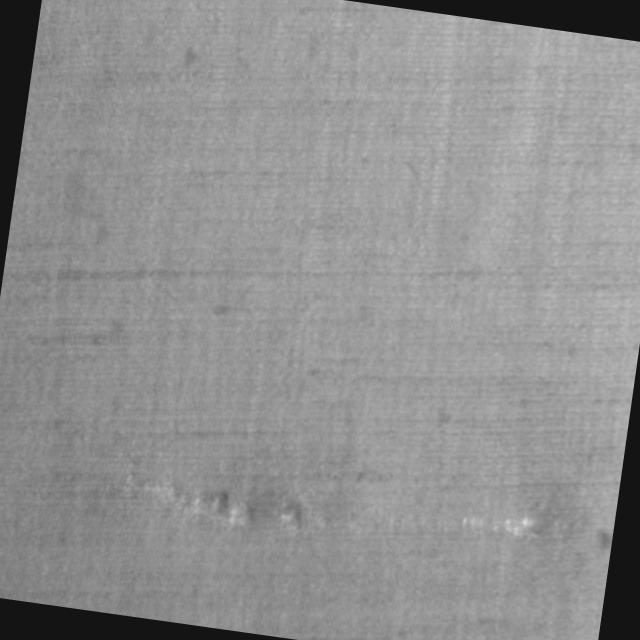thread error: (423, 462, 591, 560), (136, 463, 314, 546)
